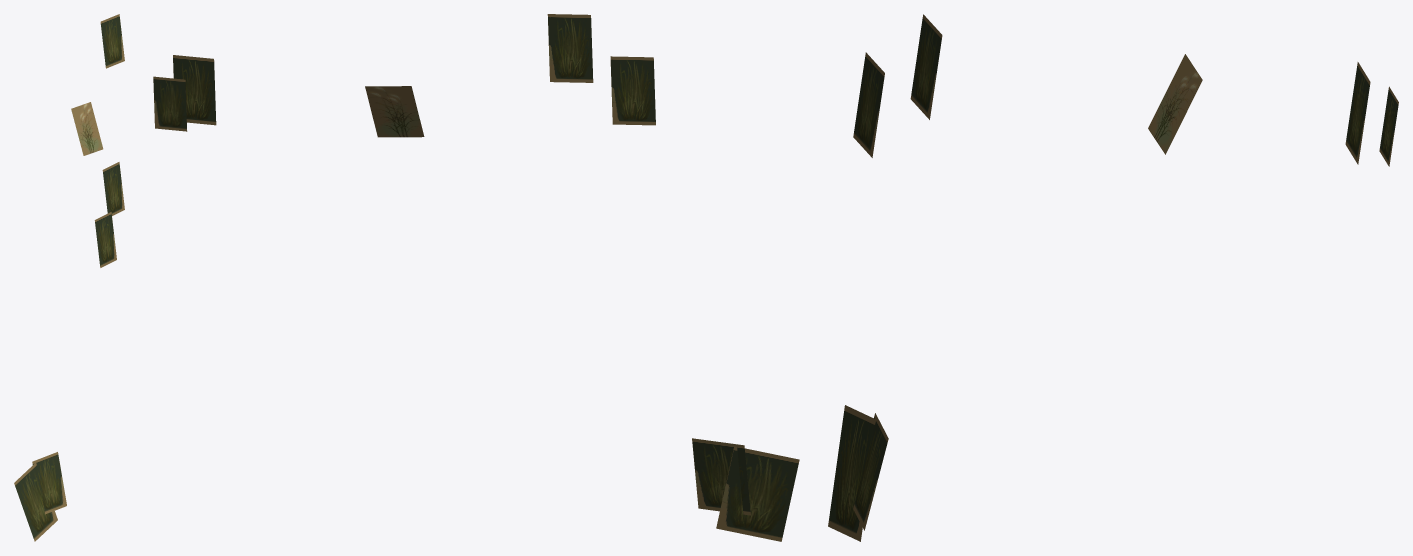
Rendered from object_grass_polys11.fbx.
The picture shows the model from 3 angles, left to right: view 1: azimuth 30°, elevation 25°; view 2: azimuth 150°, elevation 25°; view 3: azimuth 270°, elevation 25°; orthographic projection. The views are drawn at different scales.
Visible parts, largest first — view 1: obj0.067; view 2: obj0.067; view 3: obj0.067.
Boxes of the visible parts, <box> form: obj0.067: <box>14,14,124,541</box>; obj0.067: <box>153,14,799,541</box>; obj0.067: <box>828,14,1398,541</box>.
Bounding box in the file's own units: 15.12 × 20.29 × 16.09.
